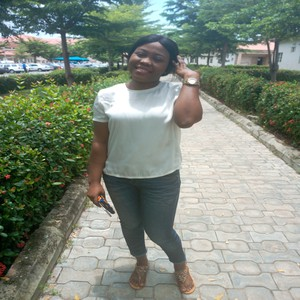Fulokoja_female_student: (91, 35, 193, 292)
